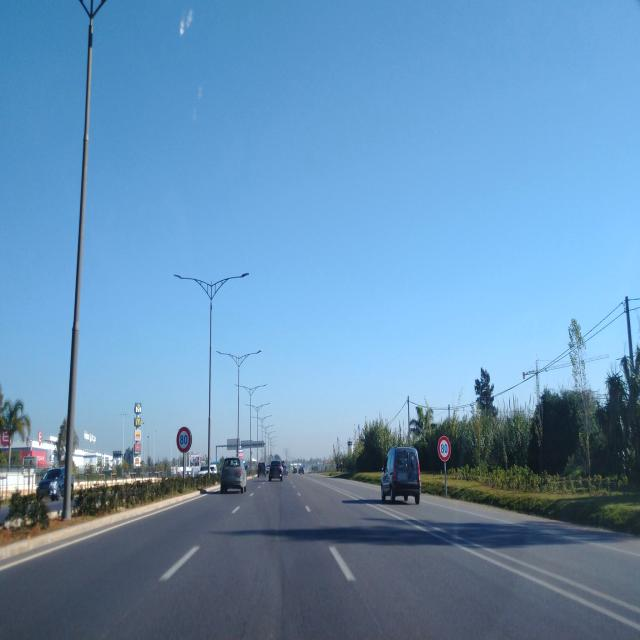car: (380, 444, 421, 506), (36, 467, 70, 501), (220, 455, 247, 494), (269, 458, 283, 482), (256, 459, 267, 478), (297, 464, 305, 474), (282, 461, 288, 474)
